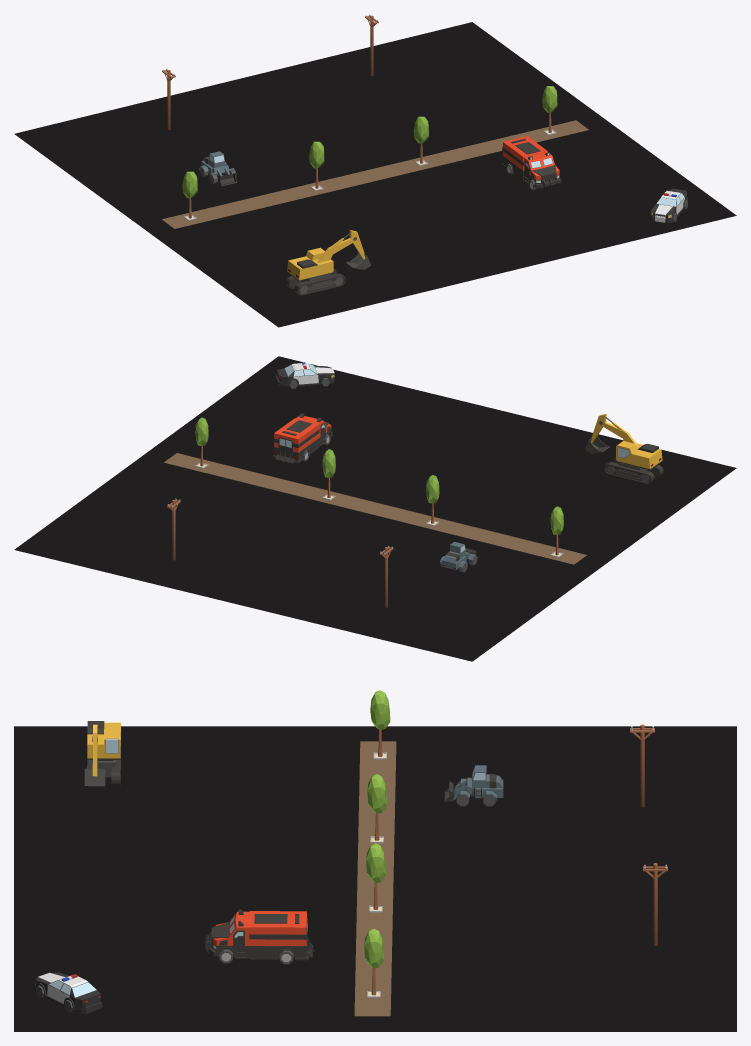
File: Tile 7_Combined_3.fbx
3 views of the same model, one above another, from view 1: azimuth 30°, elevation 25°; view 2: azimuth 150°, elevation 25°; view 3: azimuth 270°, elevation 25° (orthographic). The views are drawn at different scales.
Visible parts, largest first — view 1: MeshBaker_mesh_mesh; view 2: MeshBaker_mesh_mesh; view 3: MeshBaker_mesh_mesh.
Boxes of the visible parts, x1=… form: MeshBaker_mesh_mesh: x1=14, y1=14, x2=736, y2=327; MeshBaker_mesh_mesh: x1=14, y1=356, x2=736, y2=661; MeshBaker_mesh_mesh: x1=14, y1=690, x2=736, y2=1031.
Size of the model in its own units: 3000 by 371 by 3000.
